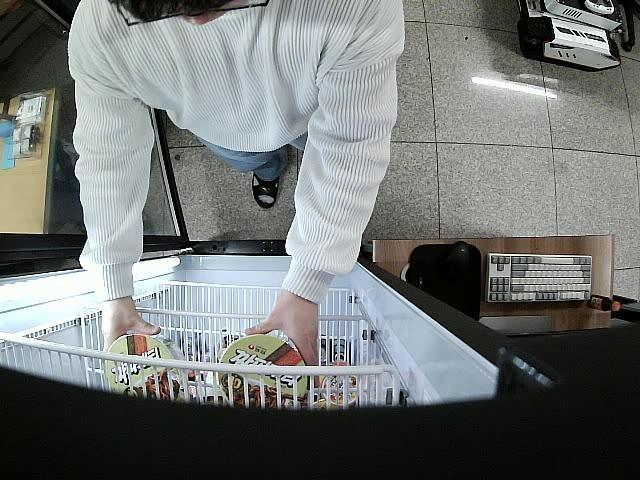03_chapagetti_L: (215, 334, 309, 412), (102, 334, 186, 404)
